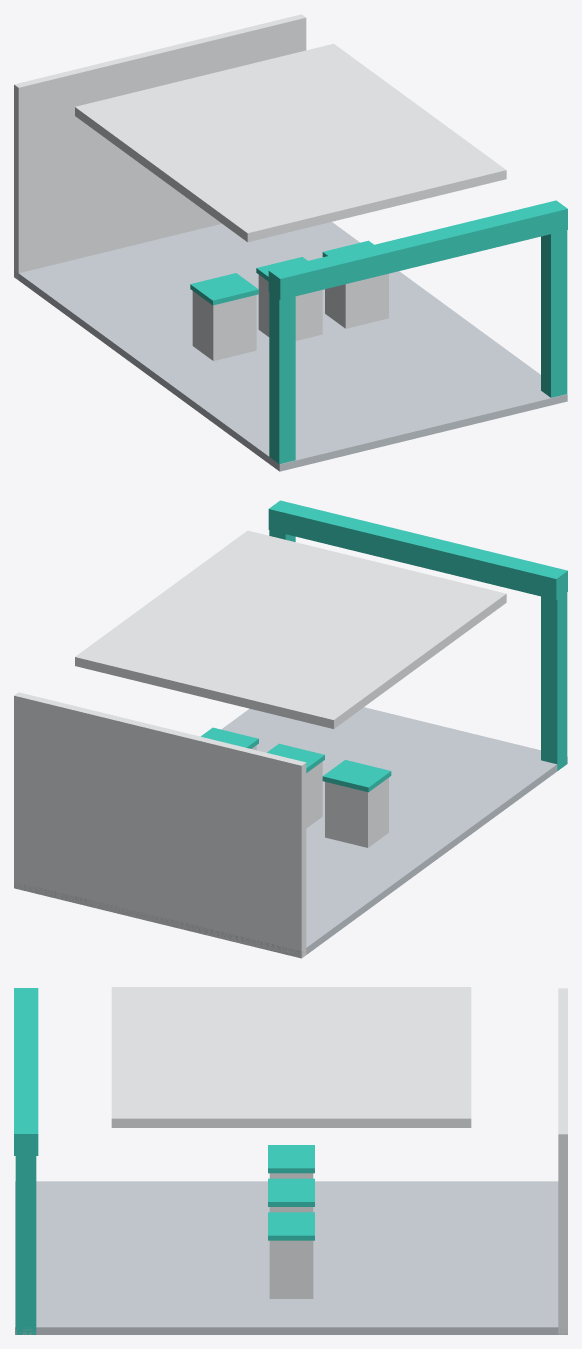
3 views of the same model, one above another, from view 1: azimuth 30°, elevation 25°; view 2: azimuth 150°, elevation 25°; view 3: azimuth 270°, elevation 25° (orthographic). The views are drawn at different scales.
Visible parts, largest first — view 1: Exhibition Booth Concept; view 2: Exhibition Booth Concept; view 3: Exhibition Booth Concept.
Part boxes in pixels (box(x1,y1,x2,y2)): Exhibition Booth Concept: box(14, 14, 567, 471); Exhibition Booth Concept: box(14, 500, 567, 958); Exhibition Booth Concept: box(14, 987, 567, 1334).
Bounding box in the file's own units: 5 × 3.34 × 8.01.
